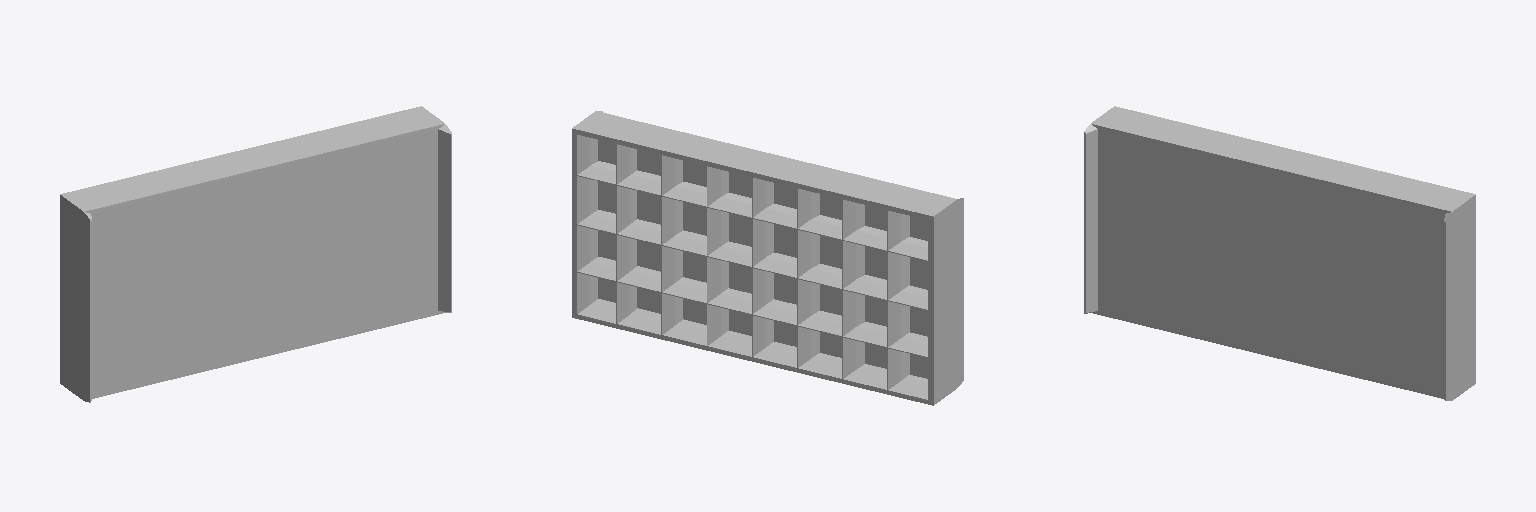
Rendered from RecessedLight.obj.
The picture shows the model from 3 angles: view 1: azimuth 30°, elevation 25°; view 2: azimuth 150°, elevation 25°; view 3: azimuth 330°, elevation 25°; orthographic projection.
Parts seen in each view (by area): view 1: RecessedLayer_RecessedGeom; view 2: RecessedLayer_RecessedGeom; view 3: RecessedLayer_RecessedGeom.
Boxes of the visible parts, box(x1,y1,x2,y2) form: RecessedLayer_RecessedGeom: box(60, 106, 451, 402); RecessedLayer_RecessedGeom: box(572, 111, 963, 405); RecessedLayer_RecessedGeom: box(1084, 106, 1475, 400).
Bounding box in the file's own units: 1.22 × 0.6096 × 0.178.